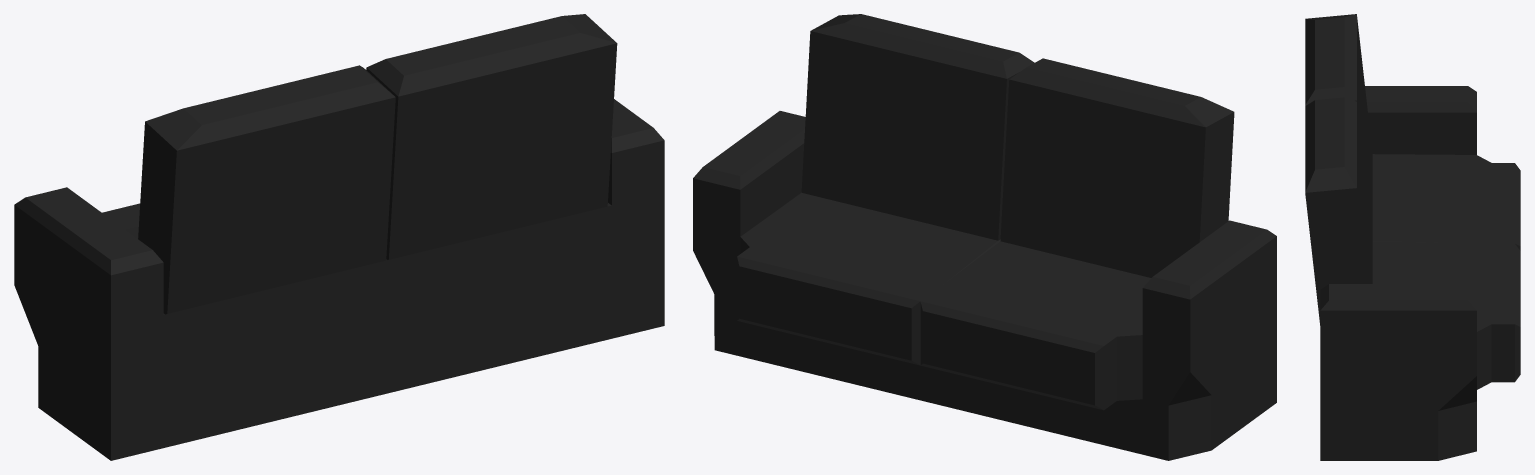
The model's file is sofa.glb.
The picture shows the model from 3 angles, left to right: view 1: azimuth 30°, elevation 25°; view 2: azimuth 150°, elevation 25°; view 3: azimuth 270°, elevation 25°; orthographic projection. The views are drawn at different scales.
Parts seen in each view (by area): view 1: Plane; view 2: Plane; view 3: Plane.
Boxes of the visible parts, box(x1,y1,x2,y2) form: Plane: box(14, 14, 664, 460); Plane: box(693, 14, 1276, 460); Plane: box(1305, 14, 1520, 460).
Bounding box in the file's own units: 271 × 150 × 113.
1 material, 1 textured.
